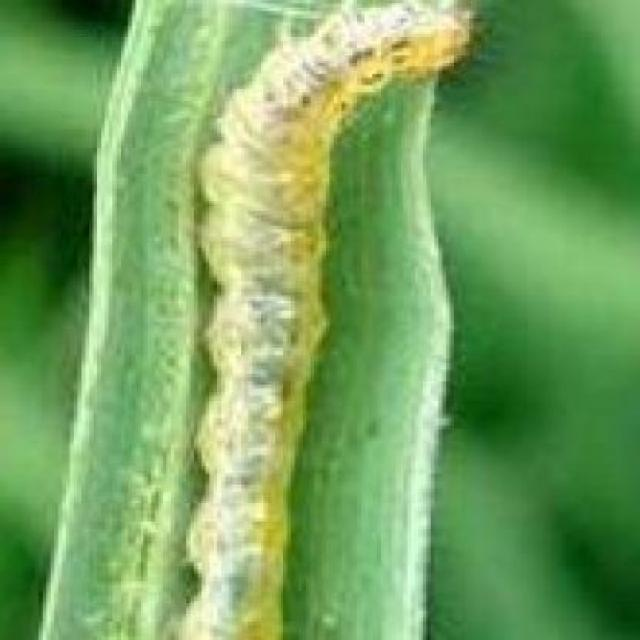leaf-folder: (135, 3, 556, 640)
